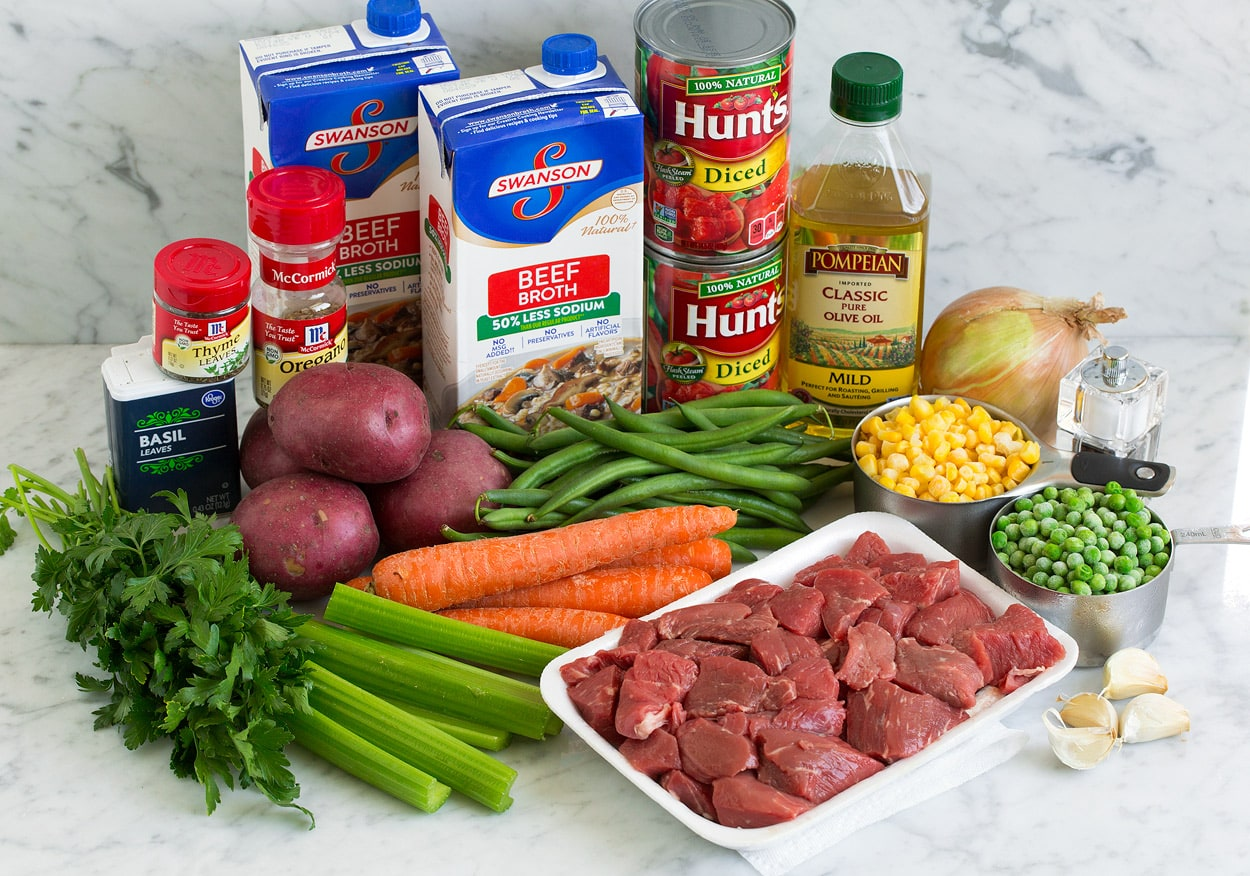Beef: (560, 526, 1073, 840)
Carrot: (367, 500, 724, 606), (493, 561, 691, 610), (437, 592, 615, 642)
Cilantro: (4, 458, 342, 835)
Onion: (909, 270, 1115, 449)
Potato: (244, 357, 442, 491), (197, 472, 380, 590), (355, 422, 510, 540)
